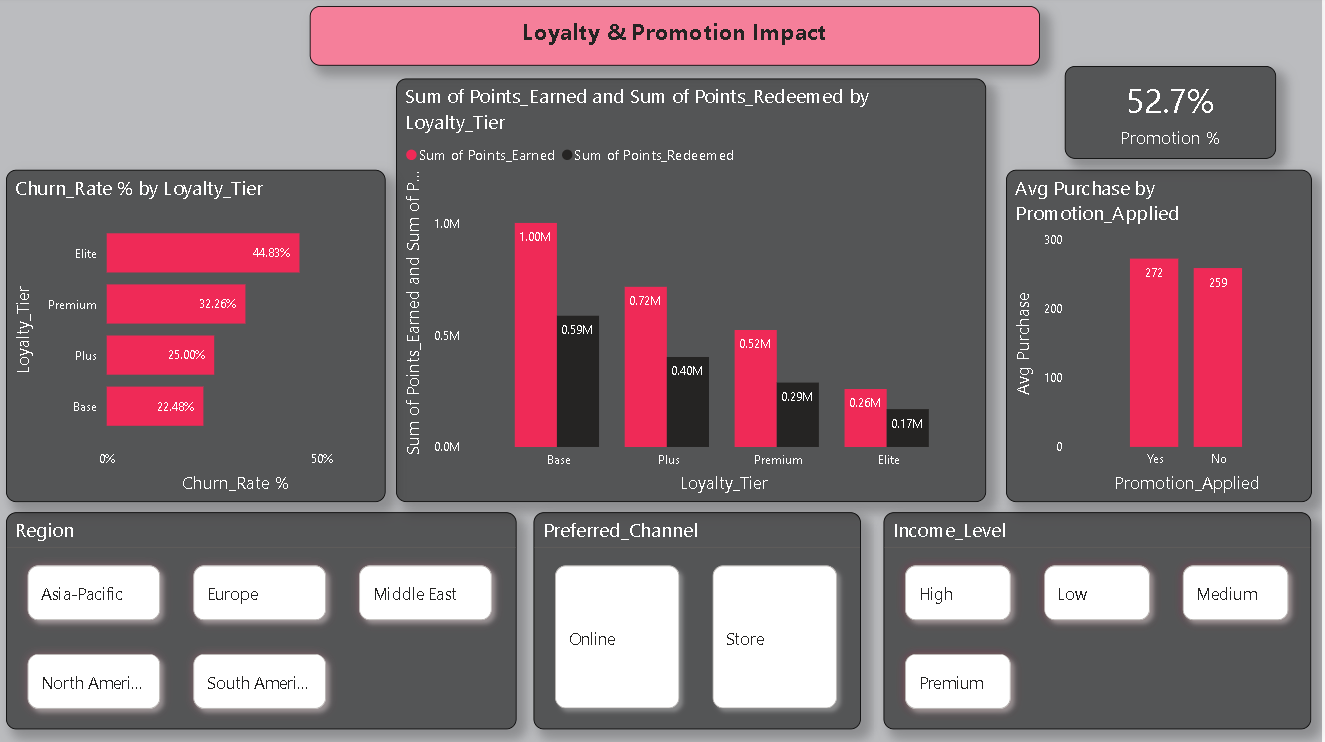

Layout of this report page (visuals, bound fields, positions):
{"tool":"powerbi","page":{"name":" Loyalty & Promotion Impact","canvas":[1280,720],"ordinal":6},"visuals":[{"type":"card","fields":{"Values":["All Measures.Promo %"]},"box":[1031.5,67.6,203.9,89.3],"z":0},{"type":"clusteredColumnChart","fields":{"Category":["Customer_Transactions.Promotion_Applied"],"Y":["All Measures.Avg Purchase"]},"box":[974.3,167.4,295,321.1],"z":1000},{"type":"clusteredColumnChart","fields":{"Category":["Loyalty_Program.Loyalty_Tier"],"Y":["Sum(Loyalty_Program.Points_Earned)","Sum(Loyalty_Program.Points_Redeemed)"]},"box":[386.1,79.6,569.4,409],"z":2000},{"type":"barChart","fields":{"Y":["All Measures.Churn_Rate %"],"Category":["Loyalty_Program.Loyalty_Tier"]},"box":[9.6,167.4,366.4,321.1],"z":3000},{"type":"textbox","box":[302.8,9.7,704.6,57.9],"z":4000},{"type":"advancedSlicerVisual","fields":{"Values":["Store_Locations.Region"]},"box":[9.6,498.1,492.6,209.9],"z":5000},{"type":"advancedSlicerVisual","fields":{"Values":["Customer_Demographics.Preferred_Channel"]},"box":[518.7,498.1,315.6,209.9],"z":6000},{"type":"advancedSlicerVisual","fields":{"Values":["Customer_Demographics.Income_Level"]},"box":[856.3,498.1,413,209.9],"z":7000}]}

Visuals, with their boxes in screenshot pixels (x1, y1, x2, y2), scaled from the page's 1280x720 canvas onto the 1325x742 screenshot:
card - All Measures.Promo %: (1068, 70, 1279, 162)
clusteredColumnChart - Customer_Transactions.Promotion_Applied x All Measures.Avg Purchase: (1009, 173, 1314, 503)
clusteredColumnChart - Loyalty_Program.Loyalty_Tier x Sum(Loyalty_Program.Points_Earned): (400, 82, 989, 504)
barChart - All Measures.Churn_Rate % x Loyalty_Program.Loyalty_Tier: (10, 173, 389, 503)
textbox: (313, 10, 1043, 70)
advancedSlicerVisual - Store_Locations.Region: (10, 513, 520, 730)
advancedSlicerVisual - Customer_Demographics.Preferred_Channel: (537, 513, 864, 730)
advancedSlicerVisual - Customer_Demographics.Income_Level: (886, 513, 1314, 730)
